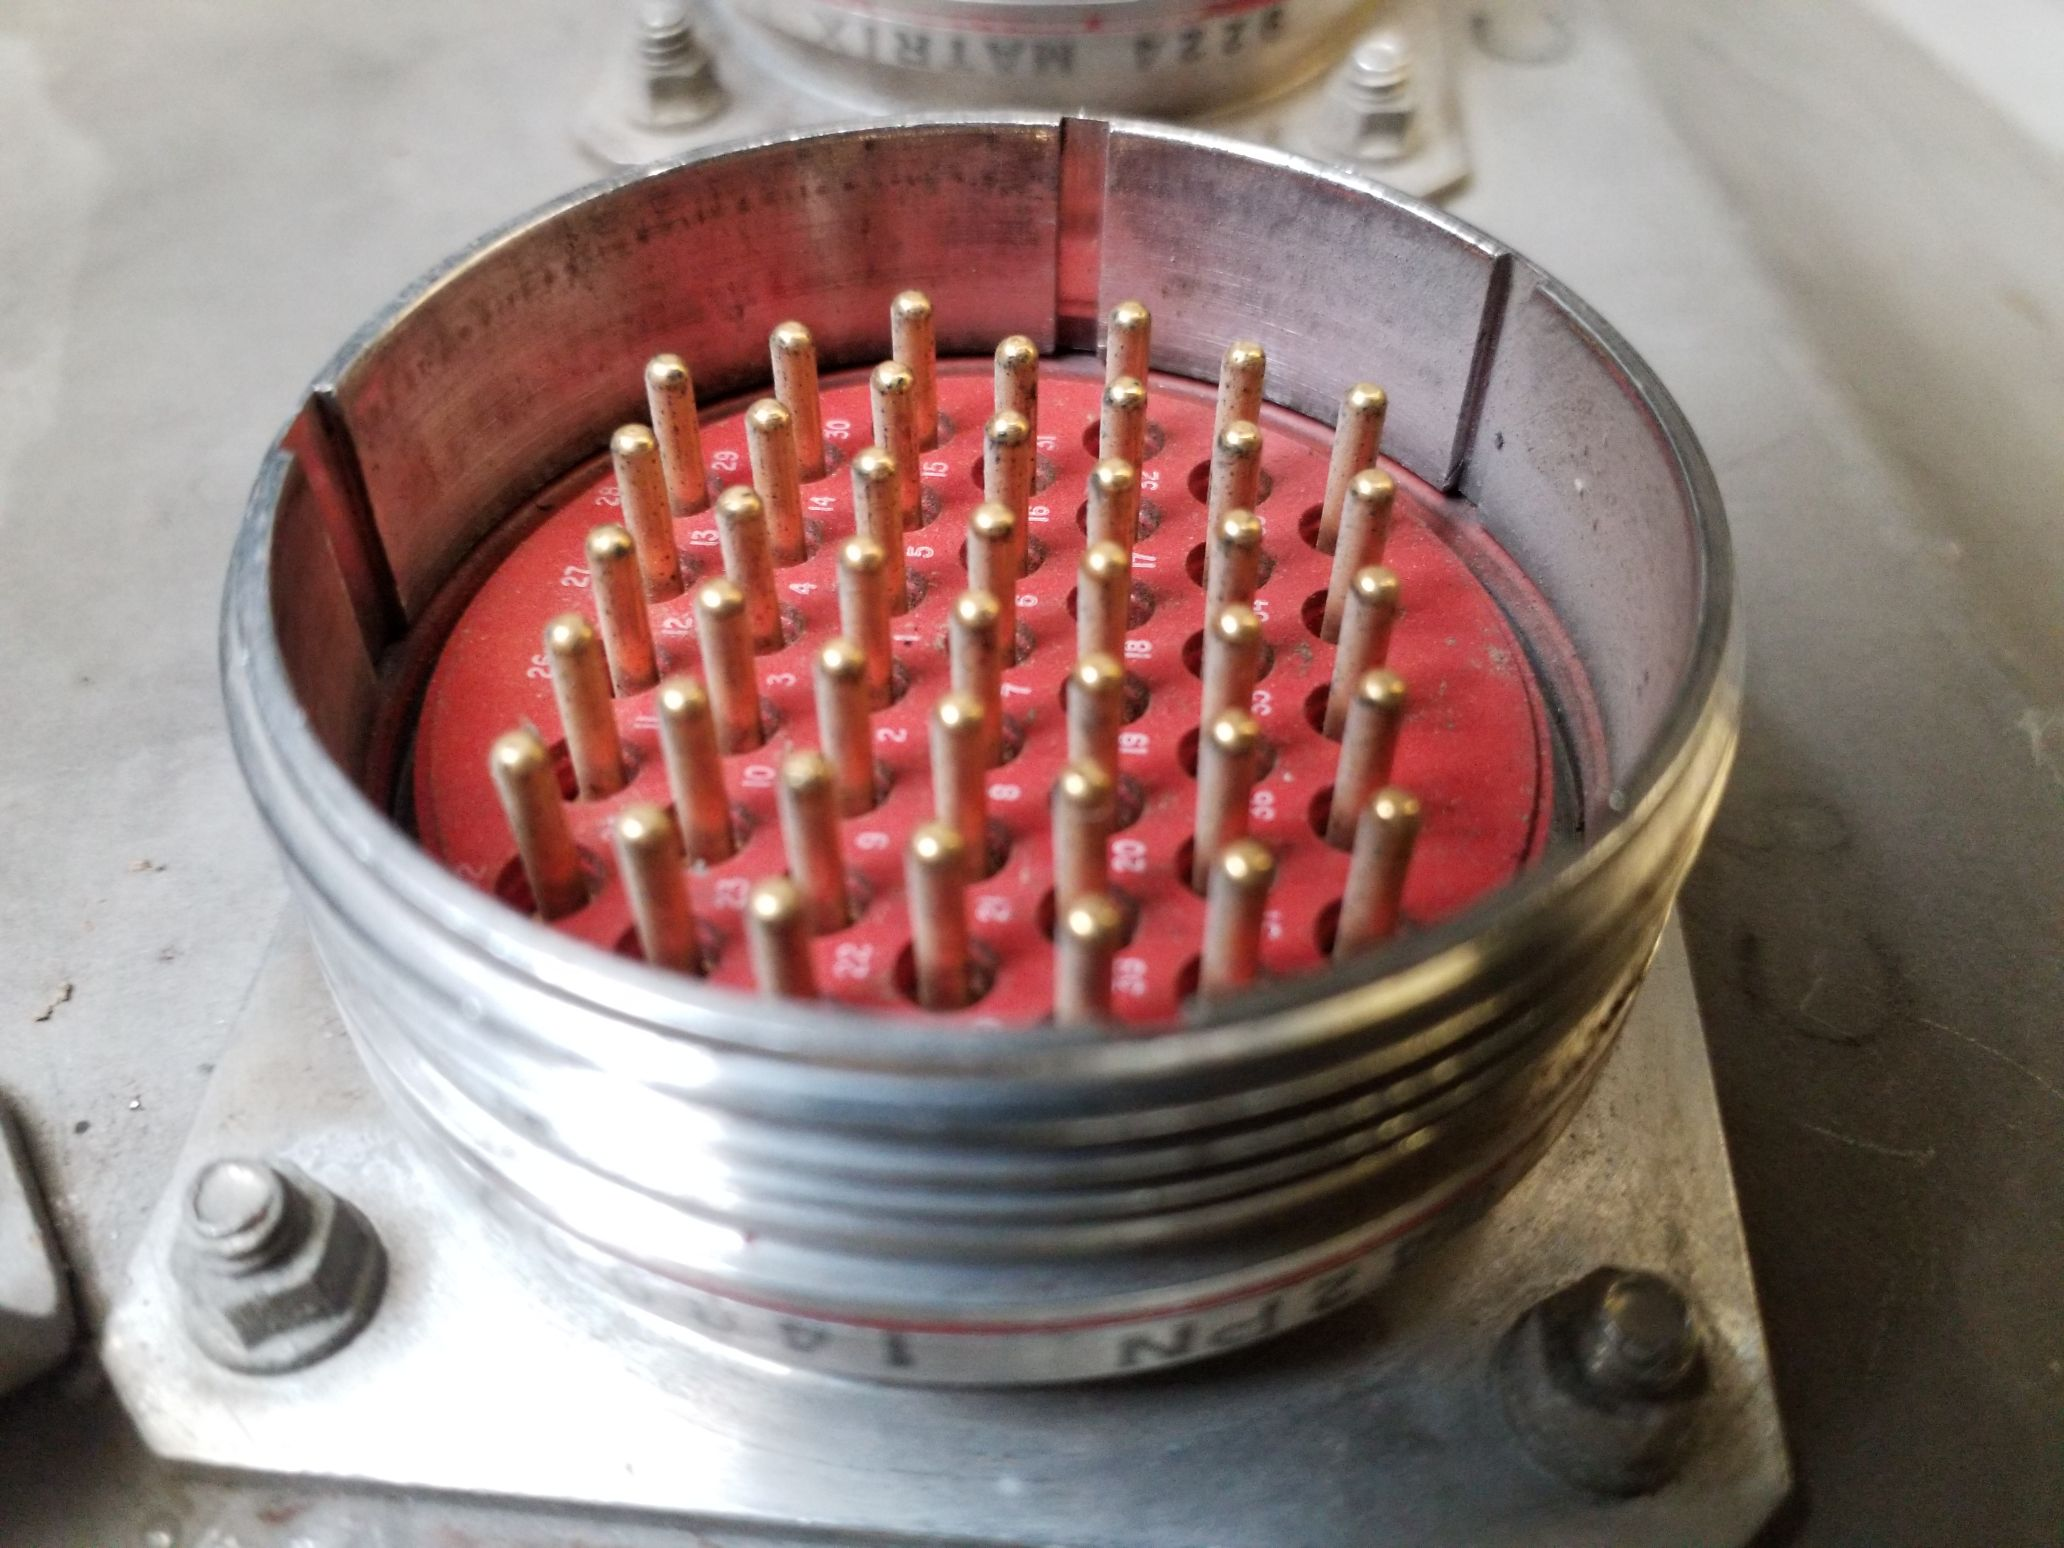outlet: (221, 83, 1762, 1272)
